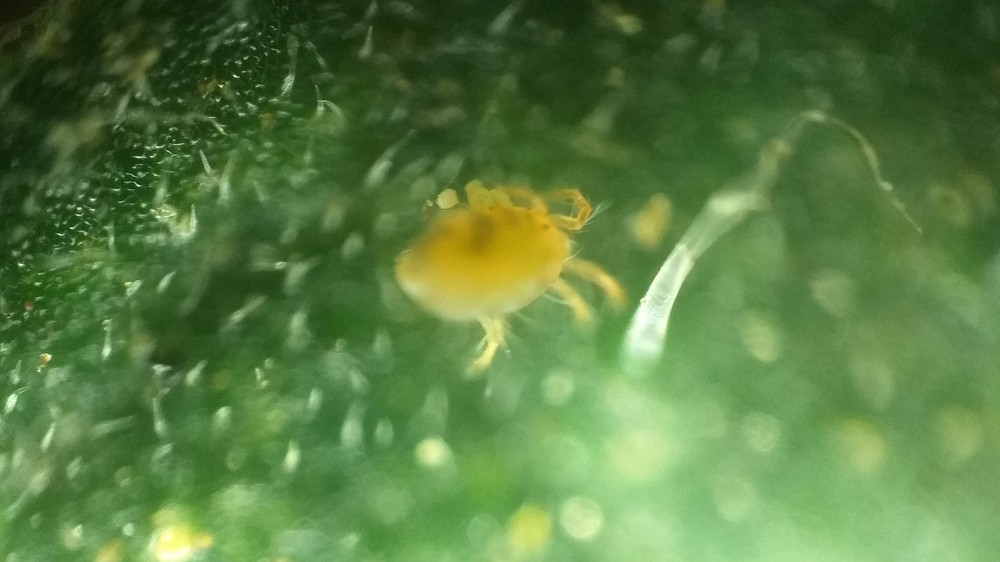Aracnido Rojo: (375, 152, 653, 366)
